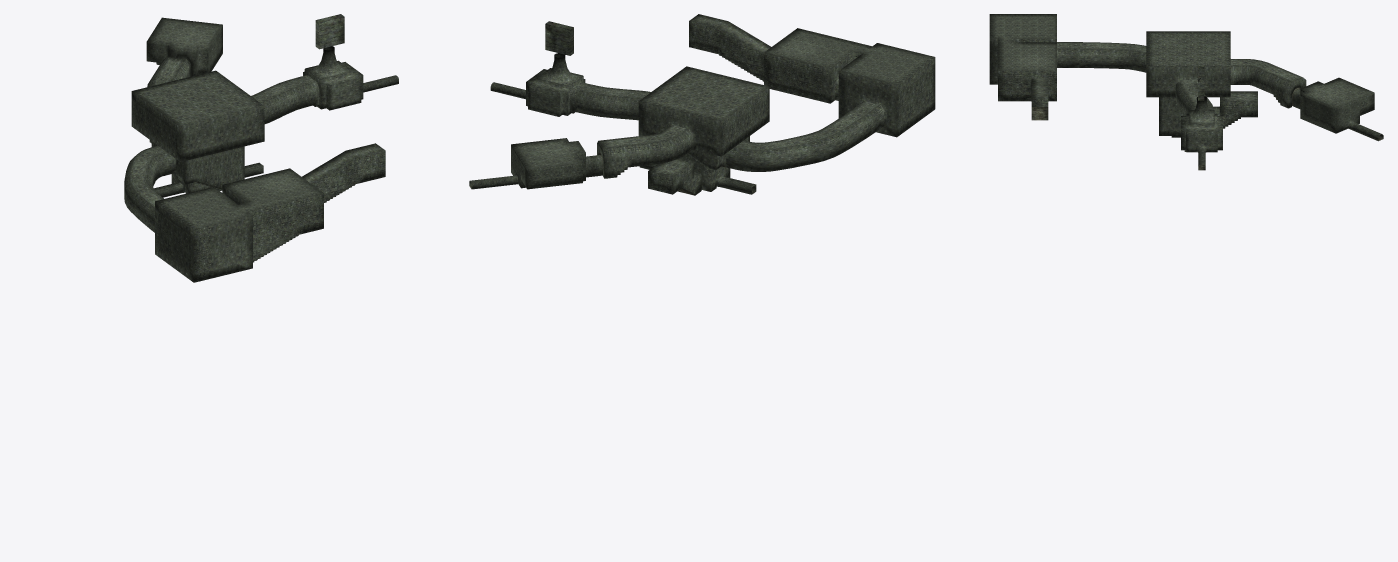
3 renders of one model, left to right at view 1: azimuth 30°, elevation 25°; view 2: azimuth 150°, elevation 25°; view 3: azimuth 270°, elevation 25°, orthographic. The views are drawn at different scales.
Parts seen in each view (by area): view 1: Chunk-7_Mesh-0, Chunk-2_Mesh-0, Chunk-3_Mesh-0, Chunk-8_Mesh-0, Chunk-0_Mesh-1, Chunk-1_Mesh-0, Object-1_Mesh-1; view 2: Chunk-7_Mesh-0, Chunk-2_Mesh-0, Chunk-3_Mesh-0, Chunk-0_Mesh-1, Chunk-8_Mesh-0, Chunk-1_Mesh-0, Chunk-4_Mesh-0, Object-1_Mesh-1; view 3: Chunk-2_Mesh-0, Chunk-7_Mesh-0, Chunk-3_Mesh-0, Chunk-8_Mesh-0, Chunk-0_Mesh-1, Chunk-4_Mesh-0, Chunk-1_Mesh-0, Chunk-6_Mesh-1.
Part boxes in pixels (x1=…): Chunk-7_Mesh-0: x1=155, y1=143, x2=385, y2=282; Chunk-2_Mesh-0: x1=131, y1=70, x2=264, y2=197; Chunk-3_Mesh-0: x1=146, y1=17, x2=222, y2=86; Chunk-8_Mesh-0: x1=303, y1=46, x2=398, y2=110; Chunk-0_Mesh-1: x1=124, y1=145, x2=175, y2=231; Chunk-1_Mesh-0: x1=251, y1=75, x2=318, y2=123; Object-1_Mesh-1: x1=315, y1=14, x2=344, y2=49; Chunk-7_Mesh-0: x1=689, y1=14, x2=935, y2=137; Chunk-2_Mesh-0: x1=638, y1=66, x2=769, y2=194; Chunk-3_Mesh-0: x1=469, y1=124, x2=692, y2=189; Chunk-0_Mesh-1: x1=726, y1=110, x2=871, y2=171; Chunk-8_Mesh-0: x1=490, y1=53, x2=585, y2=116; Chunk-1_Mesh-0: x1=569, y1=82, x2=650, y2=120; Chunk-4_Mesh-0: x1=648, y1=158, x2=701, y2=195; Object-1_Mesh-1: x1=545, y1=21, x2=573, y2=55; Chunk-2_Mesh-0: x1=1146, y1=31, x2=1230, y2=137; Chunk-7_Mesh-0: x1=989, y1=14, x2=1057, y2=106; Chunk-3_Mesh-0: x1=1230, y1=59, x2=1383, y2=140; Chunk-8_Mesh-0: x1=1181, y1=96, x2=1222, y2=166; Chunk-0_Mesh-1: x1=1079, y1=42, x2=1146, y2=72; Chunk-4_Mesh-0: x1=1213, y1=91, x2=1257, y2=128; Chunk-1_Mesh-0: x1=1176, y1=80, x2=1213, y2=115; Chunk-6_Mesh-1: x1=1057, y1=42, x2=1079, y2=67.
Size of the model in its own units: 8294 by 11725 by 9396.
8 materials, 8 textured.
